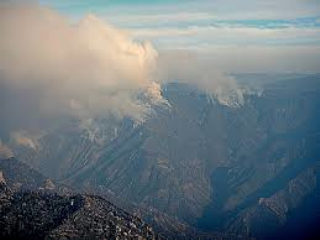smoke: (89, 37, 185, 133)
